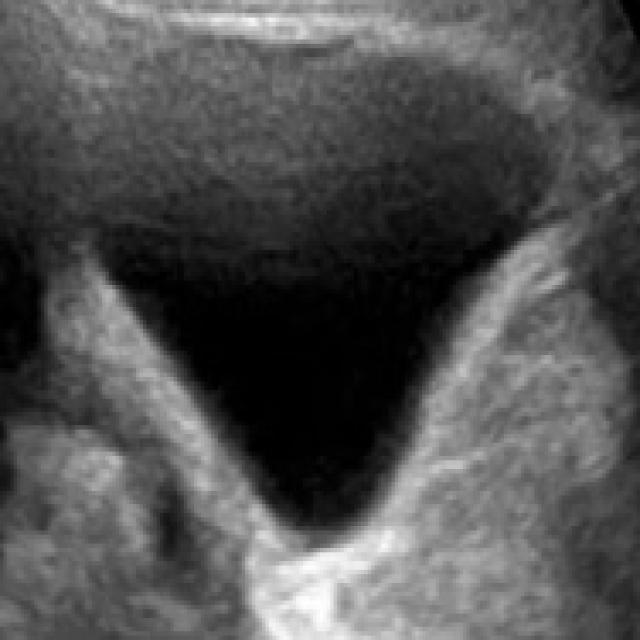bladder: (51, 10, 619, 591)
